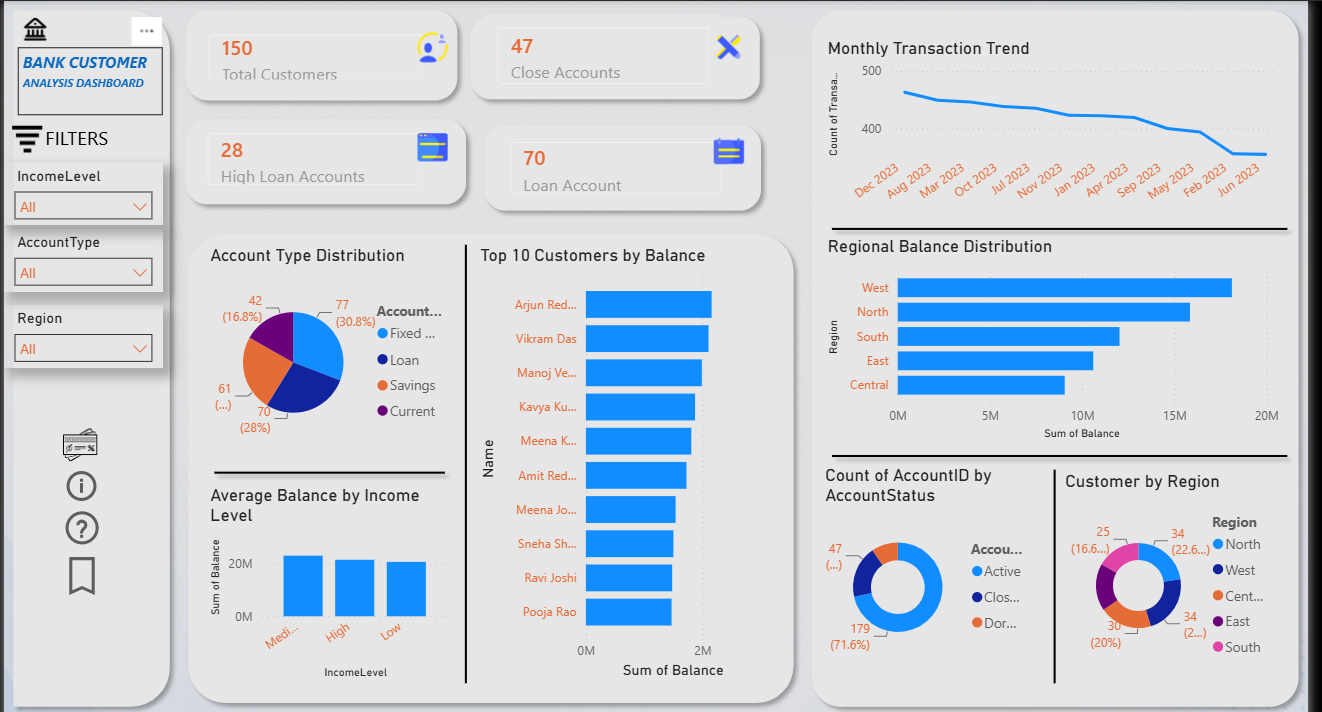

What the dashboard file says about the page in this screenshot:
{"tool":"powerbi","page":{"name":"Page 1","canvas":[1280,720],"ordinal":0},"visuals":[{"type":"shape","box":[462.6,112.9,289.6,101.8],"z":0},{"type":"shape","box":[449.1,6.1,301.8,99.4],"z":1000},{"type":"shape","box":[169.3,106.7,293.3,101.8],"z":2000},{"type":"shape","box":[169.3,0,284.7,106.7],"z":3000},{"type":"shape","box":[0,0,171.8,701.8],"z":4000},{"type":"shape","box":[171.8,219.6,612.3,478.5],"z":5000},{"type":"shape","box":[784.1,0,495.7,701.8],"z":6000},{"type":"cardVisual","fields":{"Data":["customers.Total Customers"]},"box":[184.1,16,244.2,79.8],"z":7000},{"type":"cardVisual","fields":{"Data":["accounts.Close Accounts"]},"box":[467.5,8.6,242.9,90.8],"z":8000},{"type":"cardVisual","fields":{"Data":["accounts.Loans Account"]},"box":[479.8,121.5,241.7,85.9],"z":9000},{"type":"donutChart","title":" Customer by Region","fields":{"Category":["customers.Region"],"Y":["CountNonNull(customers.CustomerID)"]},"box":[1036.8,461.4,216,206.1],"z":10000},{"type":"clusteredBarChart","title":"Regional Balance Distribution","fields":{"Y":["Sum(accounts.Balance)"],"Category":["customers.Region"]},"box":[803.7,230.7,452.8,204.9],"z":11000},{"type":"pieChart","title":"Account Type Distribution","fields":{"Category":["accounts.AccountType"],"Y":["CountNonNull(accounts.AccountID)"]},"box":[197.5,239.3,244.2,212.3],"z":12000},{"type":"donutChart","fields":{"Category":["accounts.AccountStatus"],"Y":["CountNonNull(accounts.AccountID)"]},"box":[801.2,455.2,214.7,202.5],"z":13000},{"type":"slicer","fields":{"Values":["customers.Region"]},"box":[0,298.2,155.8,61.4],"z":14000},{"type":"slicer","fields":{"Values":["accounts.AccountType"]},"box":[0,223.3,155.8,62.6],"z":15000},{"type":"slicer","title":"Account Status Distribution","fields":{"Values":["customers.IncomeLevel"]},"box":[0,158.3,155.8,61.4],"z":16000},{"type":"clusteredBarChart","title":"Top 10 Customers by Balance","fields":{"Category":["customers.Name"],"Y":["Sum(accounts.Balance)"]},"box":[462.6,239.3,294.5,430.7],"z":17000},{"type":"clusteredColumnChart","title":"Average Balance by Income Level","fields":{"Category":["customers.IncomeLevel"],"Y":["Sum(accounts.Balance)"]},"box":[197.5,474.8,244.2,195.1],"z":18000},{"type":"lineChart","title":"Monthly Transaction Trend","fields":{"Category":["transactions.MonthYear"],"Y":["CountNonNull(transactions.TransactionID)"]},"box":[803.7,35.6,452.8,173],"z":19000},{"type":"shape","box":[441.7,239.3,23.3,430.7],"z":20000},{"type":"shape","box":[197.5,454,244.2,16],"z":21000},{"type":"actionButton","box":[56.4,456.4,44.2,39.3],"z":22000},{"type":"actionButton","box":[52.8,501.8,47.9,123.9],"z":23000},{"type":"shape","box":[803.7,214.7,465,16],"z":24000},{"type":"shape","box":[803.7,433.1,465,27],"z":25000},{"type":"shape","box":[1016,460.1,30.7,209.8],"z":26000},{"type":"textbox","box":[13.5,45.4,142.3,67.5],"z":27000},{"type":"cardVisual","fields":{"Data":["customers.High Loan Accounts"]},"box":[182.8,112.9,245.4,85.9],"z":28000},{"type":"actionButton","box":[688.3,24.5,44.2,41.7],"z":28001},{"type":"actionButton","box":[397.5,24.5,44.2,41.7],"z":28002},{"type":"actionButton","box":[397.5,122.7,44.2,41.7],"z":28003},{"type":"actionButton","box":[688.3,126.4,44.2,41.7],"z":28004},{"type":"actionButton","box":[13.5,9.8,34.4,35.6],"z":28005},{"type":"actionButton","box":[51.5,414.7,44.2,41.7],"z":28006},{"type":"actionButton","box":[55.2,495.7,55.2,42.9],"z":28007},{"type":"actionButton","box":[0,116.6,41.7,38],"z":28008},{"type":"textbox","box":[35.6,116.6,74.8,38],"z":28009}]}

Visuals, with their boxes on the page's 1280x720 design canvas (x1, y1, x2, y2). These are canvas units, not pixel positions in the 1322x712 screenshot, which may show the page scaled, cropped or inside an application window:
shape: box=[463, 113, 752, 215]
shape: box=[449, 6, 751, 106]
shape: box=[169, 107, 463, 208]
shape: box=[169, 0, 454, 107]
shape: box=[0, 0, 172, 702]
shape: box=[172, 220, 784, 698]
shape: box=[784, 0, 1280, 702]
cardVisual - customers.Total Customers: box=[184, 16, 428, 96]
cardVisual - accounts.Close Accounts: box=[468, 9, 710, 99]
cardVisual - accounts.Loans Account: box=[480, 122, 722, 207]
" Customer by Region" donutChart: box=[1037, 461, 1253, 668]
"Regional Balance Distribution" clusteredBarChart: box=[804, 231, 1256, 436]
"Account Type Distribution" pieChart: box=[198, 239, 442, 452]
donutChart - accounts.AccountStatus x CountNonNull(accounts.AccountID): box=[801, 455, 1016, 658]
slicer - customers.Region: box=[0, 298, 156, 360]
slicer - accounts.AccountType: box=[0, 223, 156, 286]
"Account Status Distribution" slicer: box=[0, 158, 156, 220]
"Top 10 Customers by Balance" clusteredBarChart: box=[463, 239, 757, 670]
"Average Balance by Income Level" clusteredColumnChart: box=[198, 475, 442, 670]
"Monthly Transaction Trend" lineChart: box=[804, 36, 1256, 209]
shape: box=[442, 239, 465, 670]
shape: box=[198, 454, 442, 470]
actionButton: box=[56, 456, 101, 496]
actionButton: box=[53, 502, 101, 626]
shape: box=[804, 215, 1269, 231]
shape: box=[804, 433, 1269, 460]
shape: box=[1016, 460, 1047, 670]
textbox: box=[14, 45, 156, 113]
cardVisual - customers.High Loan Accounts: box=[183, 113, 428, 199]
actionButton: box=[688, 24, 732, 66]
actionButton: box=[398, 24, 442, 66]
actionButton: box=[398, 123, 442, 164]
actionButton: box=[688, 126, 732, 168]
actionButton: box=[14, 10, 48, 45]
actionButton: box=[52, 415, 96, 456]
actionButton: box=[55, 496, 110, 539]
actionButton: box=[0, 117, 42, 155]
textbox: box=[36, 117, 110, 155]
